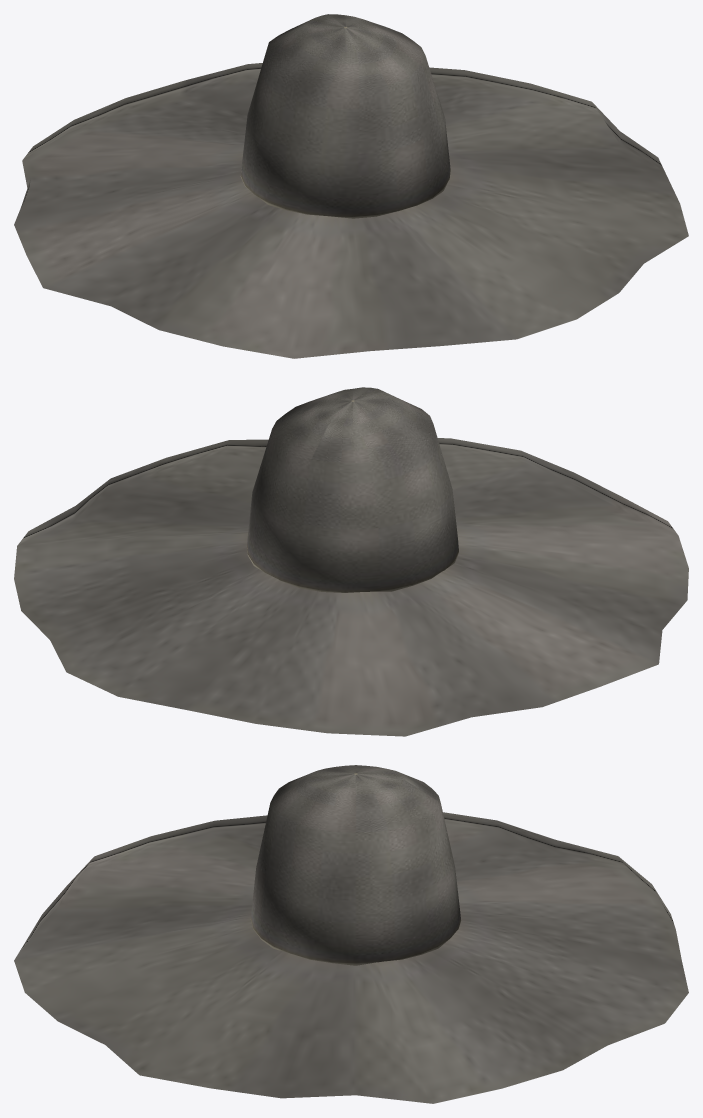
Rendered from ash_wide_head.glb.
The picture shows the model from 3 angles, top to bottom: view 1: azimuth 30°, elevation 25°; view 2: azimuth 150°, elevation 25°; view 3: azimuth 270°, elevation 25°; orthographic projection.
Parts seen in each view (by area): view 1: ash_wide_head; view 2: ash_wide_head; view 3: ash_wide_head.
Boxes of the visible parts, <box> form: ash_wide_head: <box>14,14,688,358</box>; ash_wide_head: <box>14,387,688,736</box>; ash_wide_head: <box>14,765,688,1103</box>.
Bounding box in the file's own units: 0.55 × 0.1647 × 0.5394.
Materials: 1 (1 with a texture image).
